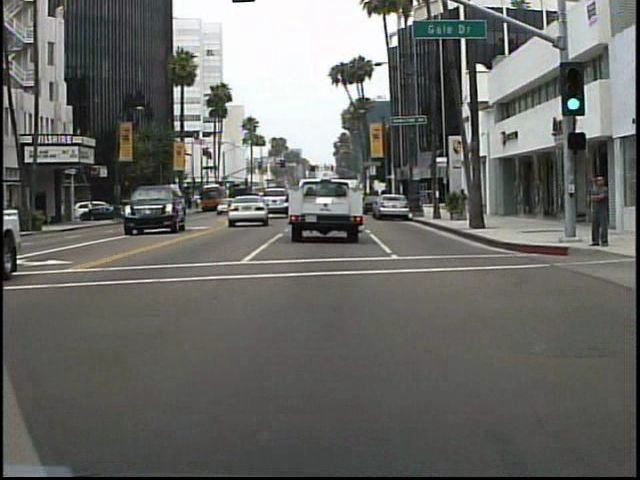person: (584, 168, 612, 255), (454, 185, 471, 219)
